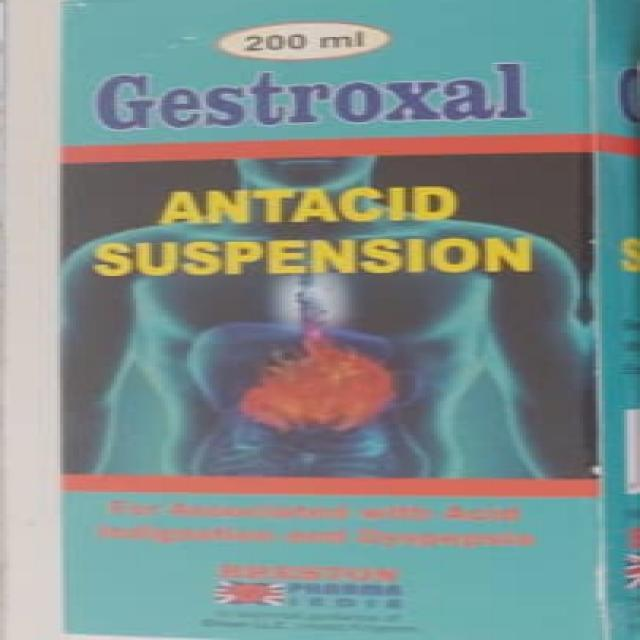drug-name: (78, 58, 540, 134)
